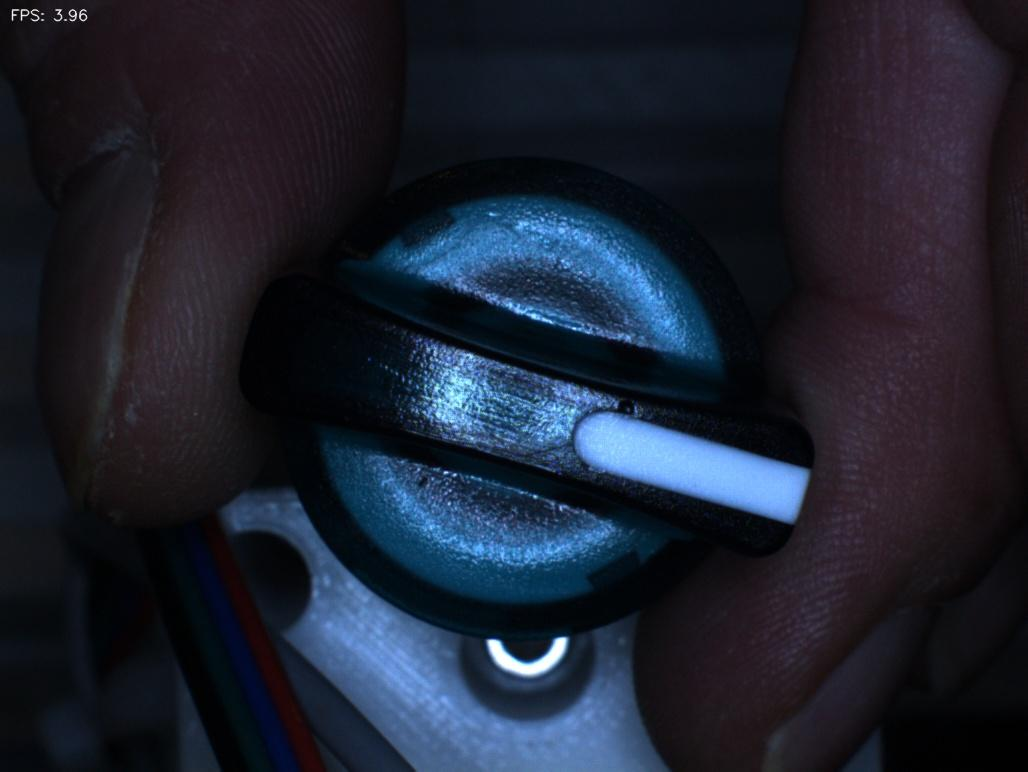Choc: (586, 351, 665, 439)
